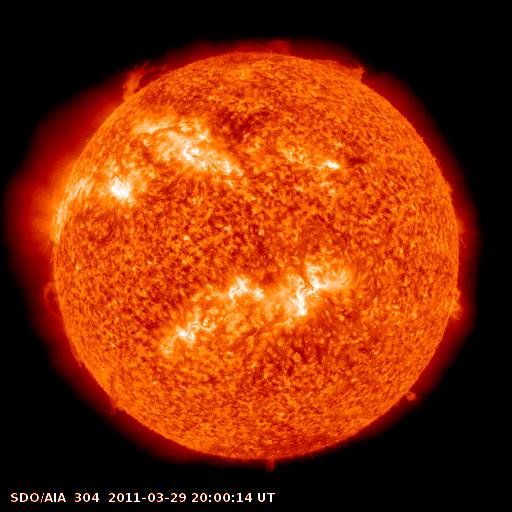prominence: (32, 276, 103, 373), (107, 49, 188, 109), (308, 46, 373, 84), (230, 33, 299, 62), (92, 391, 139, 422), (391, 381, 425, 412), (255, 451, 289, 478)
